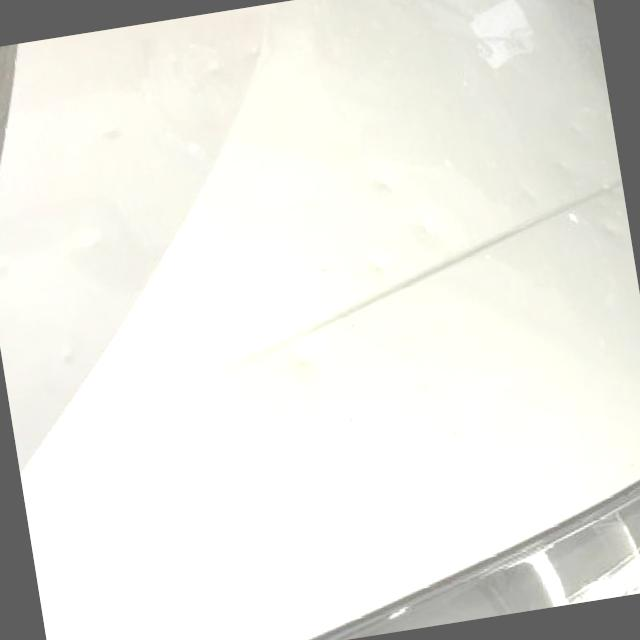dent: (366, 163, 400, 200), (284, 346, 318, 379), (77, 224, 106, 253), (598, 215, 622, 240), (418, 216, 440, 242), (100, 124, 125, 146), (368, 260, 389, 279), (62, 346, 82, 365), (520, 182, 539, 202), (554, 159, 572, 174), (0, 262, 12, 284), (564, 123, 580, 136)
